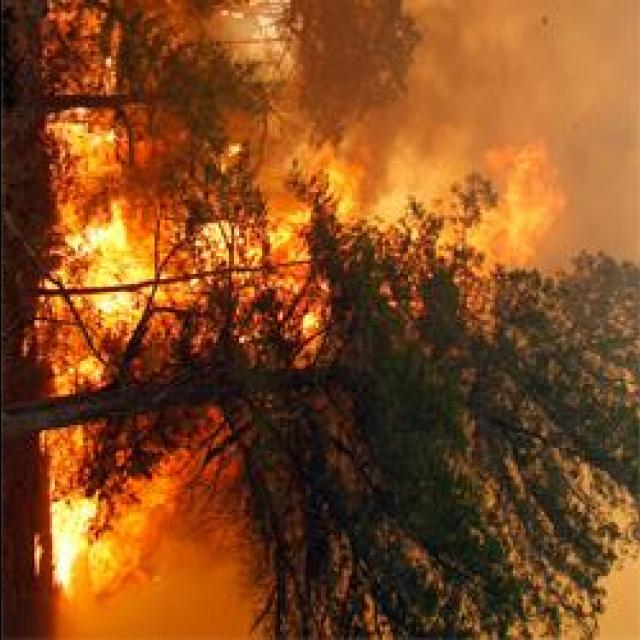fire: (41, 102, 146, 374), (47, 489, 101, 590)
smoke: (418, 0, 634, 164), (55, 582, 234, 640)
